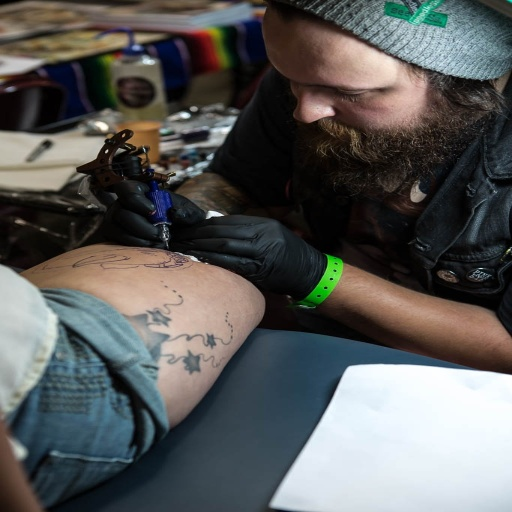hand: (188, 213, 314, 294), (103, 184, 206, 255)
